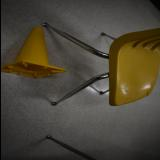cube: (0, 26, 66, 78)
